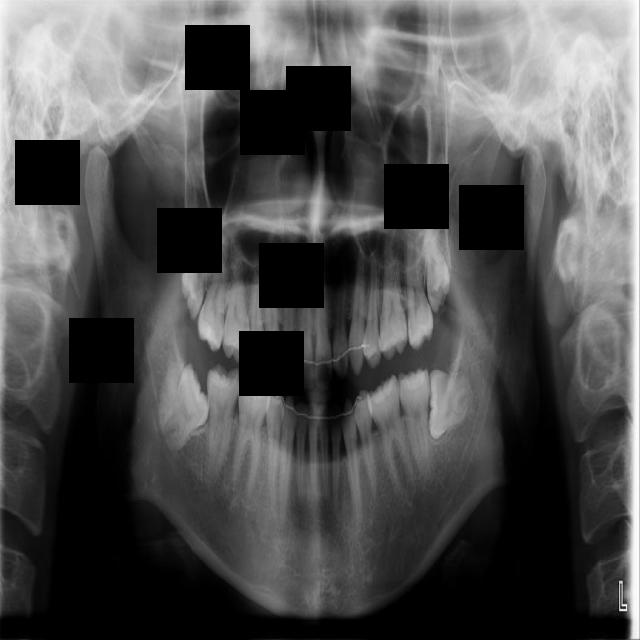3M ESPE Implant: (173, 219, 221, 321)
52: (358, 373, 413, 427), (396, 367, 432, 415), (194, 301, 227, 352), (377, 311, 409, 361), (194, 268, 207, 302), (425, 276, 442, 300)
73: (606, 563, 612, 569)
BioHorizons Implant: (401, 228, 435, 351)
BioLife Implant: (420, 219, 453, 315)
Biomet 3i Implant: (428, 369, 473, 441)
Blue Sky Bio Implant: (397, 368, 432, 481)
Caries: (195, 222, 231, 352)
Implant: (206, 363, 240, 481)
Keystone Dental Implant: (152, 361, 225, 458)
